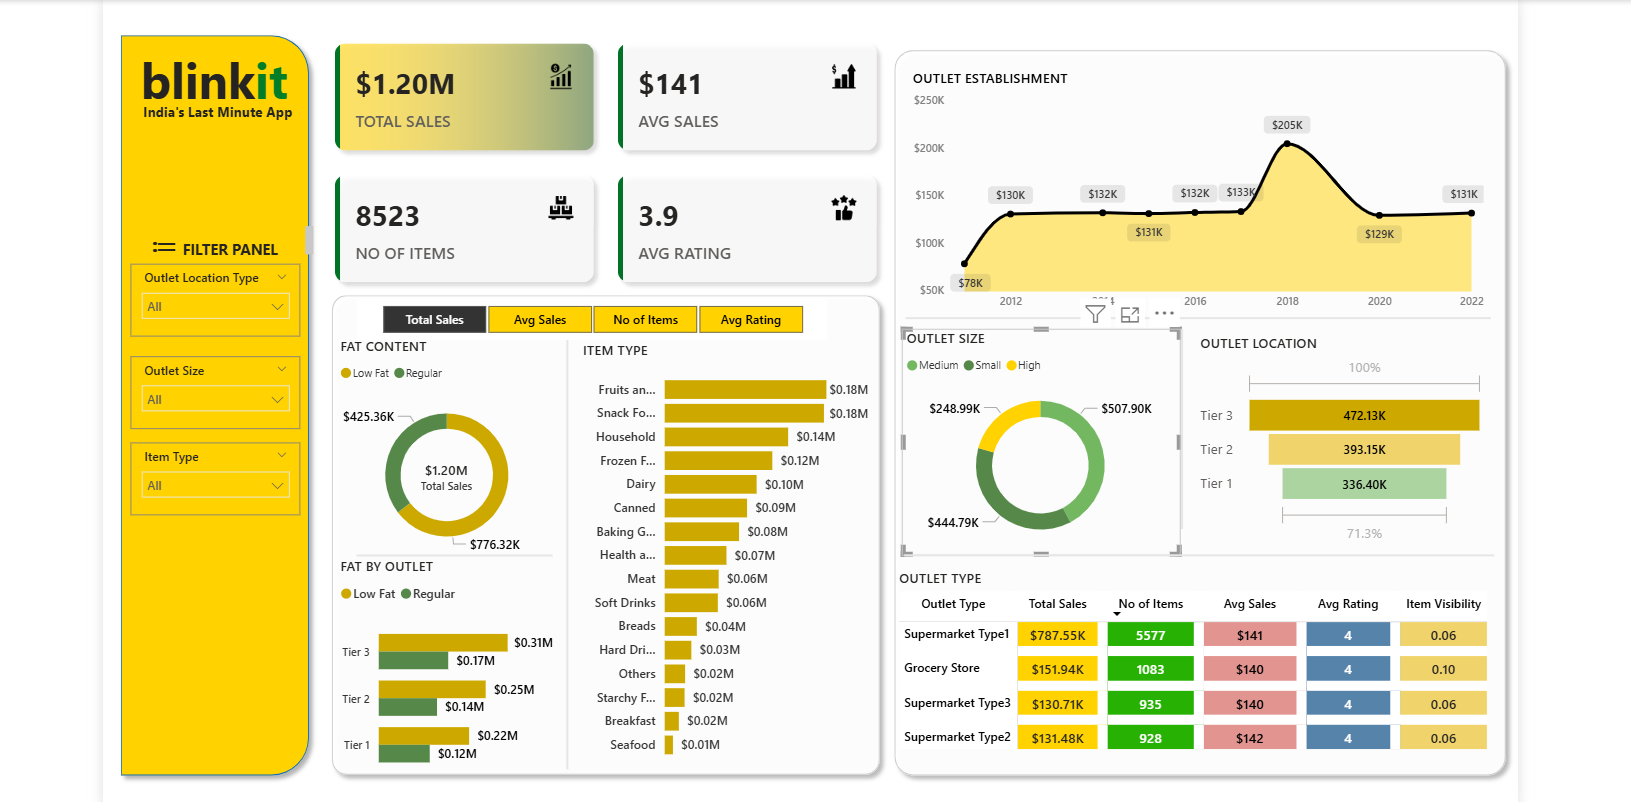

The dashboard page shown, as its layout file describes it:
{"tool":"powerbi","page":{"name":"Blinkit project","canvas":[1400,800],"ordinal":0},"visuals":[{"type":"shape","box":[9,25.5,204.1,750.4],"z":0},{"type":"textbox","box":[265.7,699.4,204.1,76.5],"z":1000},{"type":"textbox","box":[22.5,40.5,175.6,87.1],"z":2000},{"type":"textbox","box":[30,96.1,168.1,46.5],"z":3000},{"type":"cardVisual","fields":{"Data":["BlinkIT Grocery Data.Total Sales","BlinkIT Grocery Data.Avg Sales","BlinkIT Grocery Data.No of Items","BlinkIT Grocery Data.Avg Rating"]},"box":[213.1,25.5,570.3,270.2],"z":4000},{"type":"shape","box":[217.6,283.7,559.8,492.3],"z":5000},{"type":"donutChart","title":"FAT CONTENT","fields":{"Y":["BlinkIT Grocery Data.Total Sales"],"Category":["BlinkIT Grocery Data.Item Fat Content"]},"box":[229.6,333.2,220.6,229.6],"z":6000},{"type":"slicer","fields":{"Values":["Metrics.Metrics"]},"box":[250.6,295.7,465.3,40.5],"z":7000},{"type":"cardVisual","fields":{"Data":["BlinkIT Grocery Data.Total Sales"]},"box":[294.2,436.8,91.6,69],"z":8000},{"type":"clusteredBarChart","title":"FAT BY OUTLET","fields":{"Y":["BlinkIT Grocery Data.Total Sales"],"Category":["BlinkIT Grocery Data.Outlet Location Type"],"Series":["BlinkIT Grocery Data.Item Fat Content"]},"box":[229.6,550.8,220.6,229.6],"z":9000},{"type":"shape","box":[250.6,532.8,193.6,33],"z":10000},{"type":"shape","box":[448.8,336.2,21,424.7],"z":11000},{"type":"barChart","title":"ITEM TYPE","fields":{"Y":["BlinkIT Grocery Data.Total Sales"],"Category":["BlinkIT Grocery Data.Item Type"]},"box":[469.8,336.2,292.7,424.7],"z":12000},{"type":"shape","box":[774.4,40.5,622.9,735.4],"z":13000},{"type":"lineChart","title":"OUTLET ESTABLISHMENT","fields":{"Category":["BlinkIT Grocery Data.Outlet Establishment Year"],"Y":["BlinkIT Grocery Data.Total Sales"]},"box":[797,67.5,574.8,247.6],"z":14000},{"type":"shape","box":[794,304.7,579.3,21],"z":15000},{"type":"donutChart","title":"OUTLET SIZE","fields":{"Y":["BlinkIT Grocery Data.Total Sales"],"Category":["BlinkIT Grocery Data.Outlet Size"]},"box":[791,325.7,274.7,225.1],"z":16000},{"type":"shape","box":[1062.6,325.7,10.5,198.1],"z":17000},{"type":"funnel","title":"OUTLET LOCATION","fields":{"Category":["BlinkIT Grocery Data.Outlet Location Type"],"Y":["Sum(BlinkIT Grocery Data.Sales)"]},"box":[1080.6,330.2,291.2,211.6],"z":18000},{"type":"shape","box":[792.5,540.3,583.8,18],"z":19000},{"type":"pivotTable","title":"OUTLET TYPE","fields":{"Rows":["BlinkIT Grocery Data.Outlet Type"],"Values":["BlinkIT Grocery Data.Total Sales","BlinkIT Grocery Data.No of Items","BlinkIT Grocery Data.Avg Sales","BlinkIT Grocery Data.Avg Rating","Avg(BlinkIT Grocery Data.Item Visibility)"]},"box":[783.5,562.8,592.8,226.6],"z":20000},{"type":"slicer","fields":{"Values":["BlinkIT Grocery Data.Outlet Location Type"]},"box":[27,261.2,168.1,72],"z":21000},{"type":"slicer","fields":{"Values":["BlinkIT Grocery Data.Outlet Size"]},"box":[27,352.7,168.1,72],"z":22000},{"type":"slicer","fields":{"Values":["BlinkIT Grocery Data.Item Type"]},"box":[27,438.3,168.1,72],"z":23000},{"type":"textbox","box":[16.5,219.1,196.6,42],"z":24000}]}

Visuals, with their boxes on the page's 1400x800 design canvas (x1, y1, x2, y2). These are canvas units, not pixel positions in the 1631x802 screenshot, which may show the page scaled, cropped or inside an application window:
shape: 9,26,213,776
textbox: 266,699,470,776
textbox: 22,40,198,128
textbox: 30,96,198,143
cardVisual - BlinkIT Grocery Data.Total Sales x BlinkIT Grocery Data.Avg Sales: 213,26,783,296
shape: 218,284,777,776
"FAT CONTENT" donutChart: 230,333,450,563
slicer - Metrics.Metrics: 251,296,716,336
cardVisual - BlinkIT Grocery Data.Total Sales: 294,437,386,506
"FAT BY OUTLET" clusteredBarChart: 230,551,450,780
shape: 251,533,444,566
shape: 449,336,470,761
"ITEM TYPE" barChart: 470,336,762,761
shape: 774,40,1397,776
"OUTLET ESTABLISHMENT" lineChart: 797,68,1372,315
shape: 794,305,1373,326
"OUTLET SIZE" donutChart: 791,326,1066,551
shape: 1063,326,1073,524
"OUTLET LOCATION" funnel: 1081,330,1372,542
shape: 792,540,1376,558
"OUTLET TYPE" pivotTable: 784,563,1376,789
slicer - BlinkIT Grocery Data.Outlet Location Type: 27,261,195,333
slicer - BlinkIT Grocery Data.Outlet Size: 27,353,195,425
slicer - BlinkIT Grocery Data.Item Type: 27,438,195,510
textbox: 16,219,213,261
